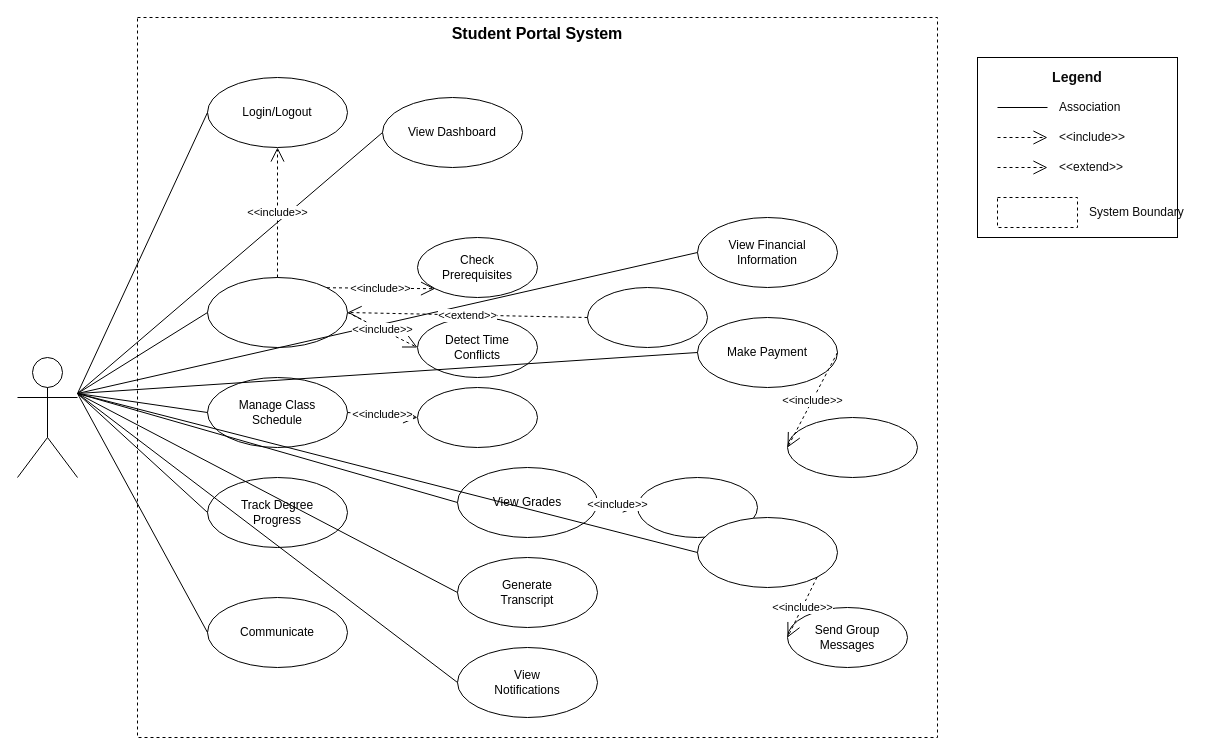
The diagram is 1215 pixels wide and 755 high, and some of its shapes have lost their labels. Here are the shapes that lost their labels. From the top down, the box of each, then its label:
(206, 276, 348, 348): Register for Courses
(586, 286, 708, 348): Join Waitlist
(16, 356, 78, 478): Student
(416, 386, 538, 448): Drop Course
(786, 416, 918, 478): Submit Payment Information
(636, 476, 758, 538): Calculate GPA
(696, 516, 838, 588): Join/Create Study Groups
